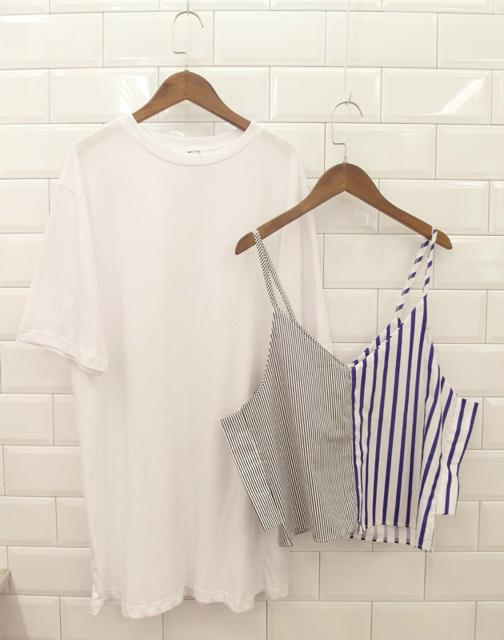Tops: (47, 114, 299, 610), (237, 230, 463, 552)
